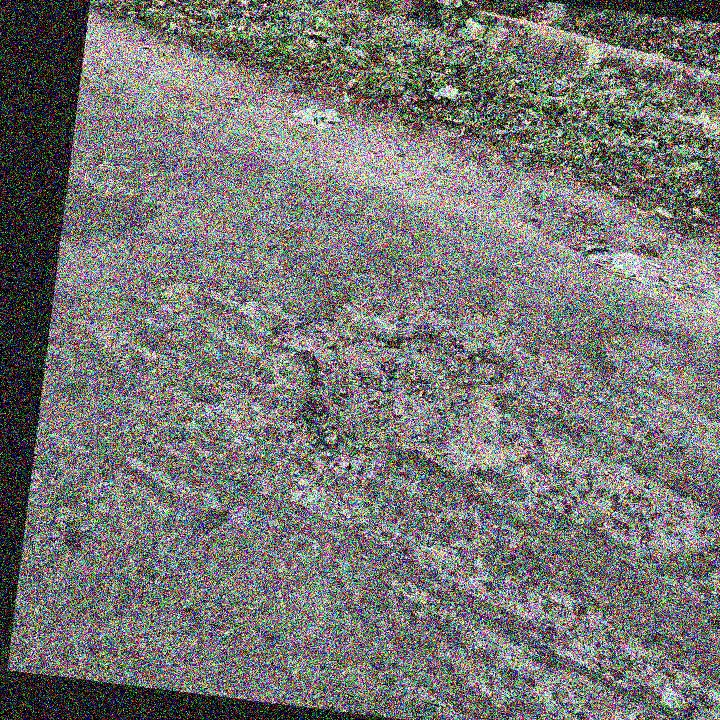pothole: (256, 307, 533, 483)
